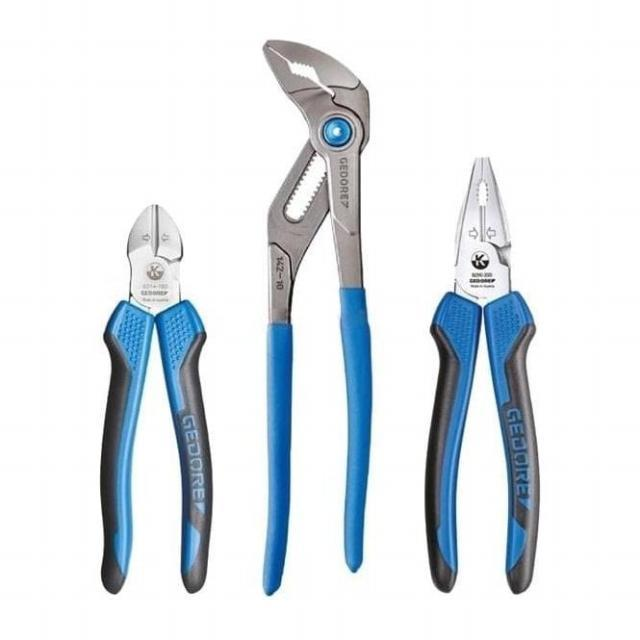pliers: (250, 33, 386, 602), (413, 145, 551, 600), (85, 198, 218, 602)
